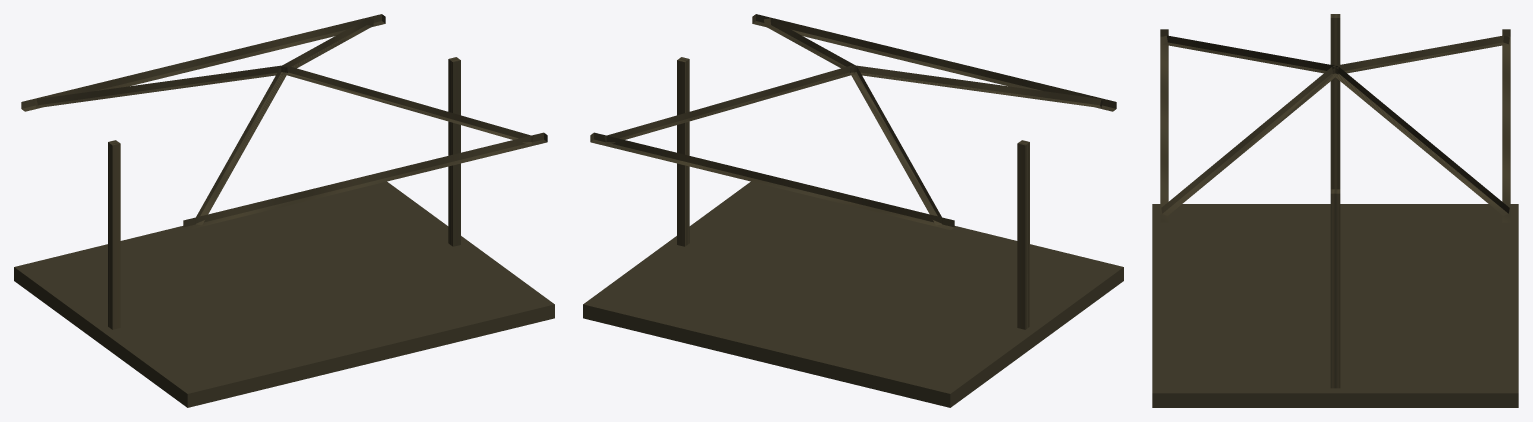
The model's file is env_camo_net_canopy_a.glb.
3 renders of one model, left to right at view 1: azimuth 30°, elevation 25°; view 2: azimuth 150°, elevation 25°; view 3: azimuth 270°, elevation 25°, orthographic. The views are drawn at different scales.
Visible parts, largest first — view 1: env_camo_net_canopy_a; view 2: env_camo_net_canopy_a; view 3: env_camo_net_canopy_a.
Boxes of the visible parts, box(x1,y1,x2,y2) form: env_camo_net_canopy_a: box(14, 14, 554, 407); env_camo_net_canopy_a: box(583, 14, 1123, 407); env_camo_net_canopy_a: box(1152, 14, 1518, 407).
Bounding box in the file's own units: 5.5 × 3.39 × 4.5.
1 material, 1 textured.
